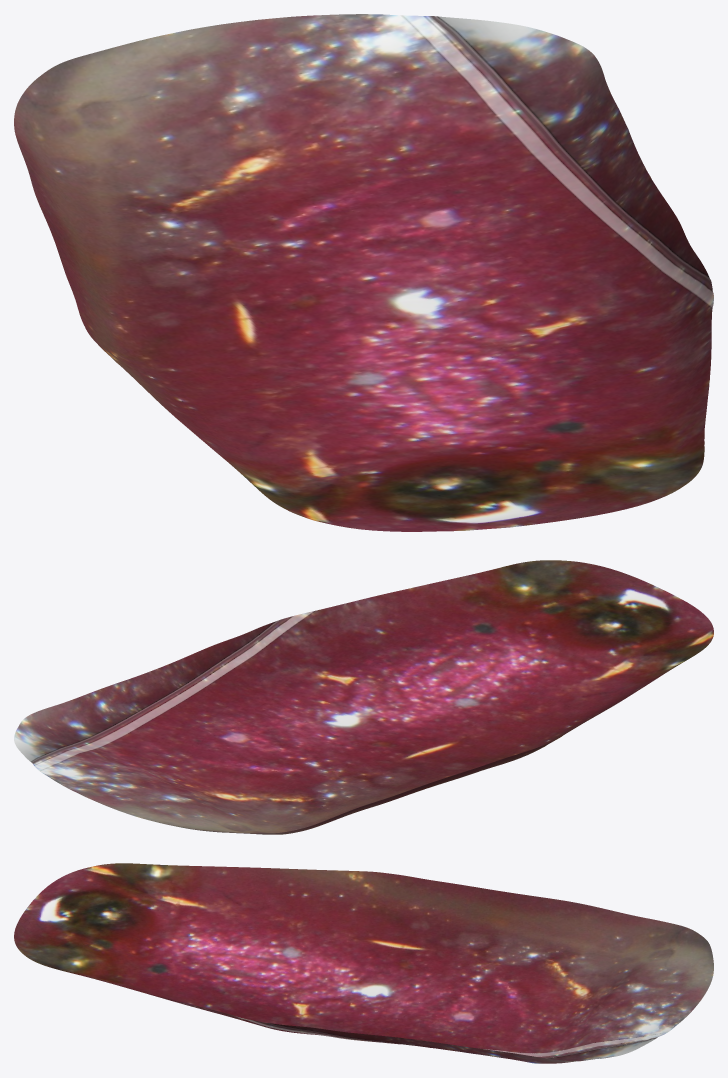
File: red_nail.glb
3 views of the same model, one above another, from view 1: azimuth 30°, elevation 25°; view 2: azimuth 150°, elevation 25°; view 3: azimuth 270°, elevation 25° (orthographic). The views are drawn at different scales.
Parts seen in each view (by area): view 1: nail red; view 2: nail red; view 3: nail red.
Boxes of the visible parts, left/top/right/bottom form: nail red: left=14, top=14, right=713, bottom=531; nail red: left=14, top=560, right=713, bottom=834; nail red: left=14, top=863, right=713, bottom=1063.
Size of the model in its own units: 399 by 27.36 by 593.
Materials: 1 (1 with a texture image).
